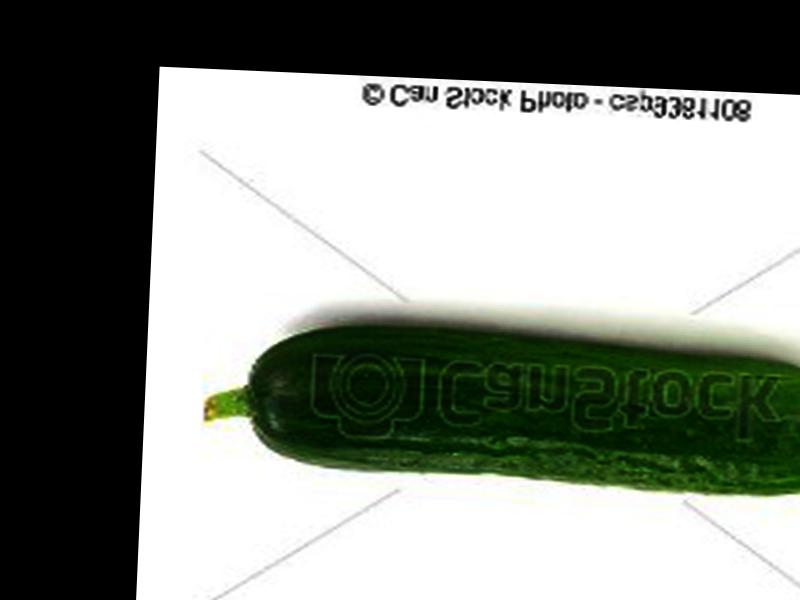Cucumber: (198, 316, 800, 499)
